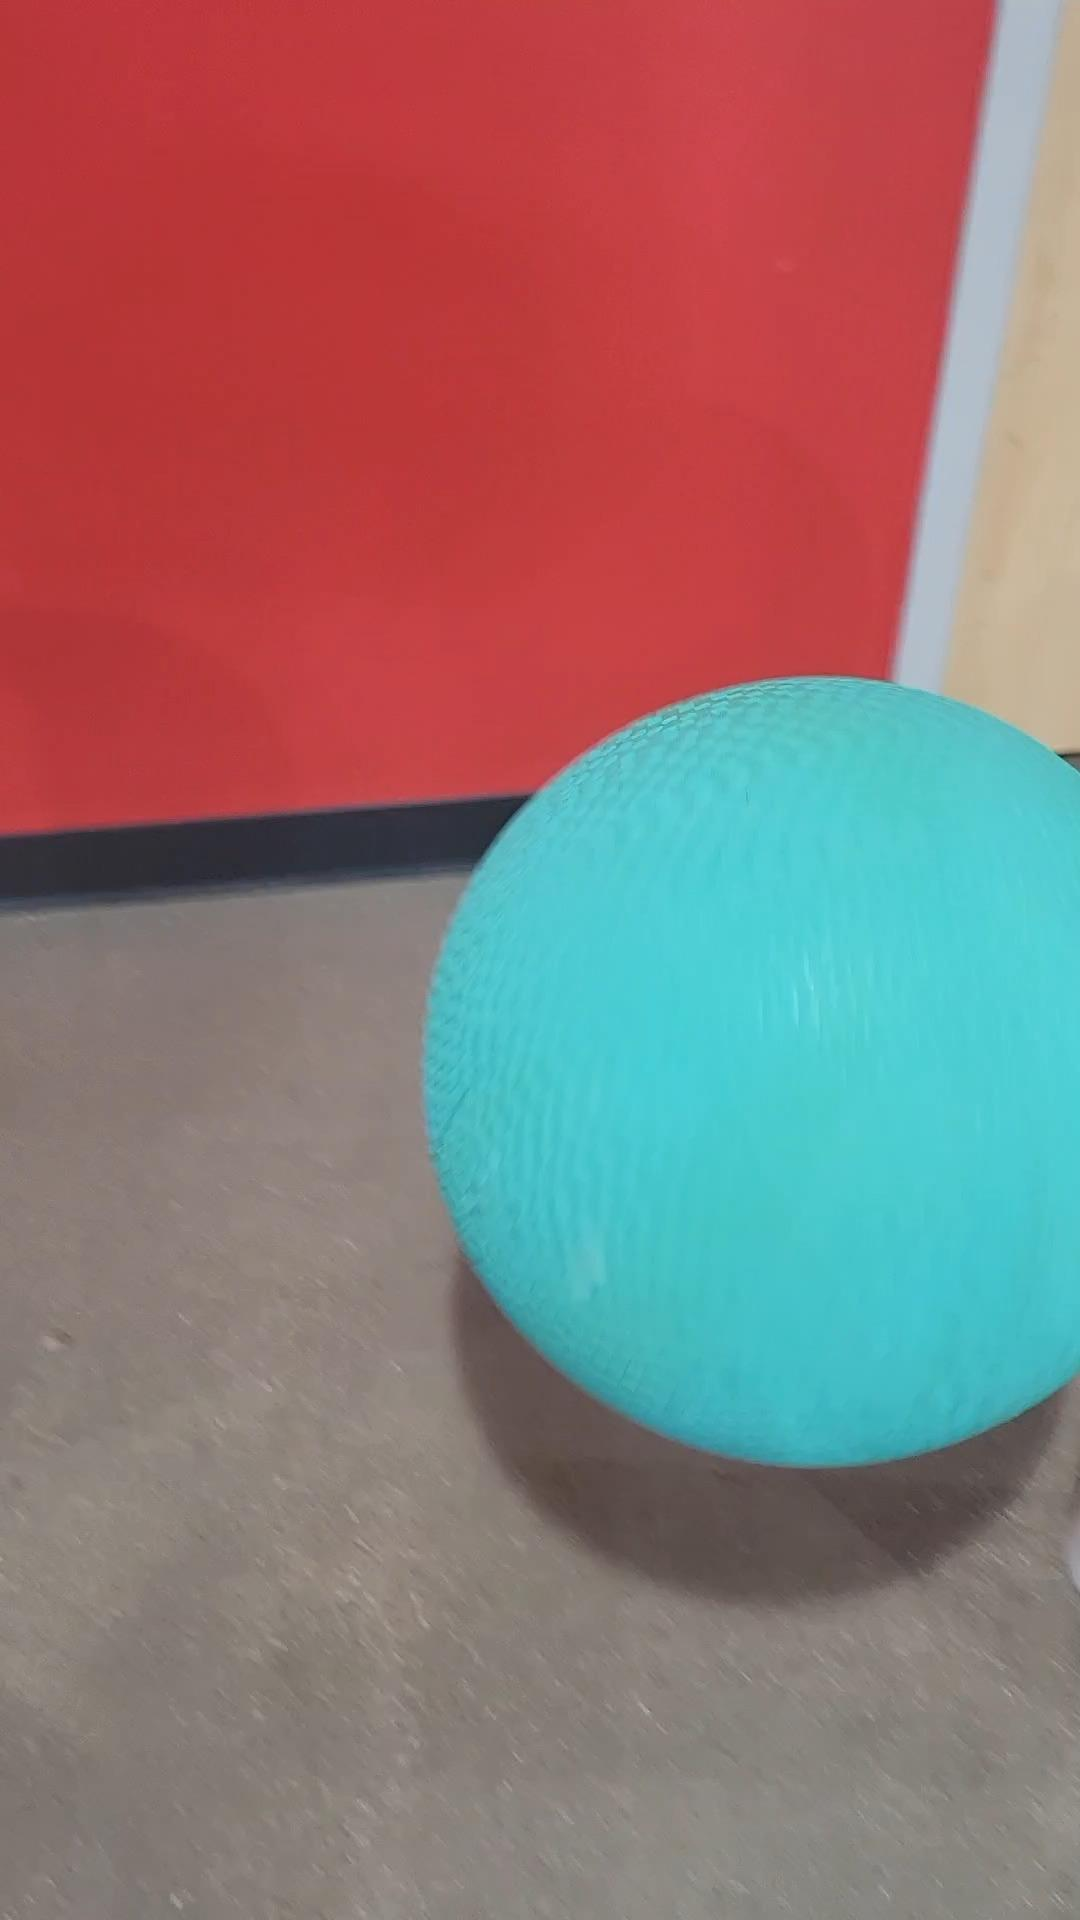algae: (446, 676, 1080, 1457)
